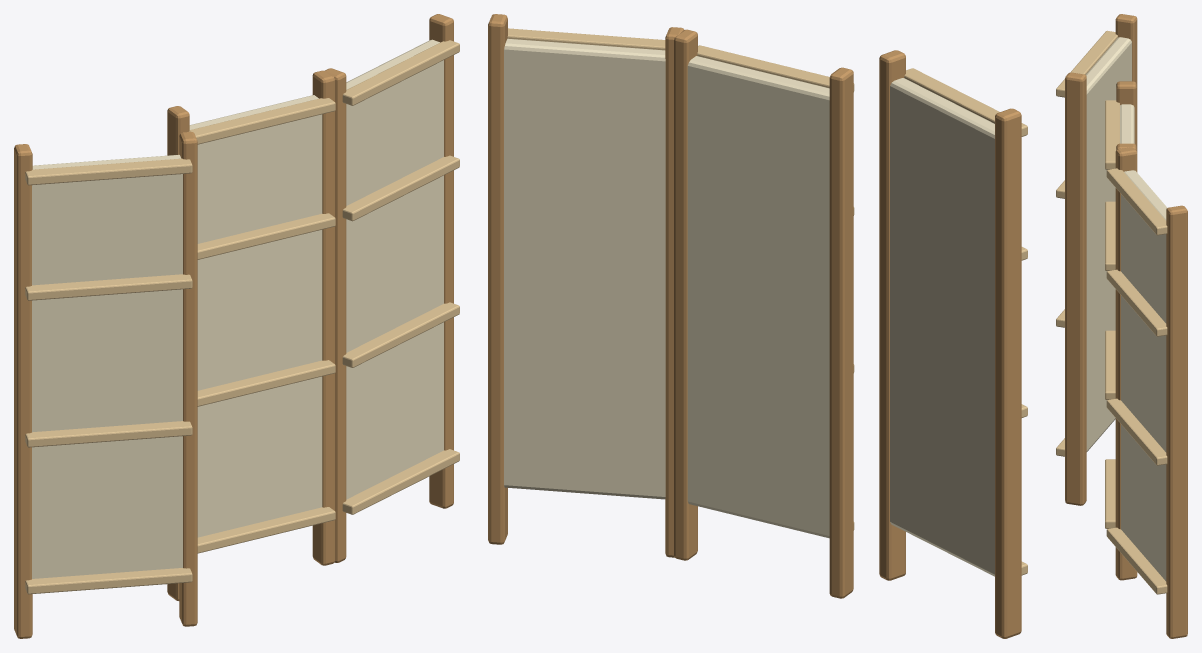
File: S034_folding_privacy_screen.glb
3 renders of one model, left to right at view 1: azimuth 30°, elevation 25°; view 2: azimuth 150°, elevation 25°; view 3: azimuth 270°, elevation 25°, orthographic. The views are drawn at different scales.
Parts seen in each view (by area): view 1: screen_paper, screen_paper.001, screen_paper.002, screen_stile, screen_stile.001, screen_stile.003, screen_stile.004, screen_stile.005, screen_rail.003, screen_rail.001, screen_rail.002, screen_rail (+9 smaller); view 2: screen_paper.002, screen_paper.001, screen_paper, screen_stile, screen_stile.002, screen_stile.005, screen_stile.003, screen_stile.001, screen_stile.004, screen_rail.011, screen_rail.007, screen_rail.003; view 3: screen_paper.002, screen_paper, screen_stile.001, screen_stile.005, screen_stile.004, screen_rail.011, screen_rail.009, screen_rail.010, screen_rail.008, screen_rail.007, screen_stile, screen_rail.003 (+5 smaller).
Part boxes in pixels (left/top/right/bottom): screen_paper: left=32, top=154, right=182, bottom=578; screen_paper.001: left=189, top=95, right=322, bottom=537; screen_paper.002: left=346, top=39, right=443, bottom=499; screen_stile: left=14, top=144, right=32, bottom=638; screen_stile.001: left=179, top=131, right=197, bottom=626; screen_stile.003: left=312, top=70, right=334, bottom=565; screen_stile.004: left=325, top=68, right=346, bottom=562; screen_stile.005: left=429, top=14, right=453, bottom=508; screen_rail.003: left=25, top=158, right=192, bottom=185; screen_rail.001: left=25, top=421, right=192, bottom=447; screen_rail.002: left=25, top=274, right=192, bottom=300; screen_rail: left=25, top=568, right=192, bottom=594; screen_paper.002: left=504, top=38, right=665, bottom=499; screen_paper.001: left=687, top=56, right=829, bottom=538; screen_paper: left=890, top=78, right=994, bottom=576; screen_stile: left=995, top=108, right=1021, bottom=638; screen_stile.002: left=829, top=67, right=853, bottom=598; screen_stile.005: left=488, top=14, right=507, bottom=544; screen_stile.003: left=674, top=29, right=697, bottom=560; screen_stile.001: left=879, top=50, right=905, bottom=580; screen_stile.004: left=665, top=27, right=684, bottom=557; screen_rail.011: left=507, top=28, right=665, bottom=50; screen_rail.007: left=697, top=45, right=854, bottom=91; screen_rail.003: left=904, top=68, right=1027, bottom=136; screen_paper.002: left=1121, top=170, right=1167, bottom=581; screen_paper: left=1086, top=37, right=1131, bottom=451; screen_stile.001: left=1065, top=72, right=1086, bottom=505; screen_stile.005: left=1166, top=205, right=1187, bottom=638; screen_stile.004: left=1115, top=147, right=1137, bottom=580; screen_rail.011: left=1106, top=168, right=1167, bottom=235; screen_rail.009: left=1106, top=398, right=1167, bottom=465; screen_rail.010: left=1106, top=269, right=1167, bottom=336; screen_rail.008: left=1106, top=527, right=1167, bottom=594; screen_rail.007: left=1105, top=100, right=1119, bottom=169; screen_stile: left=1115, top=14, right=1137, bottom=151; screen_rail.003: left=1056, top=30, right=1117, bottom=97.
Size of the model in its own units: 1.86 by 1.86 by 0.5186.
